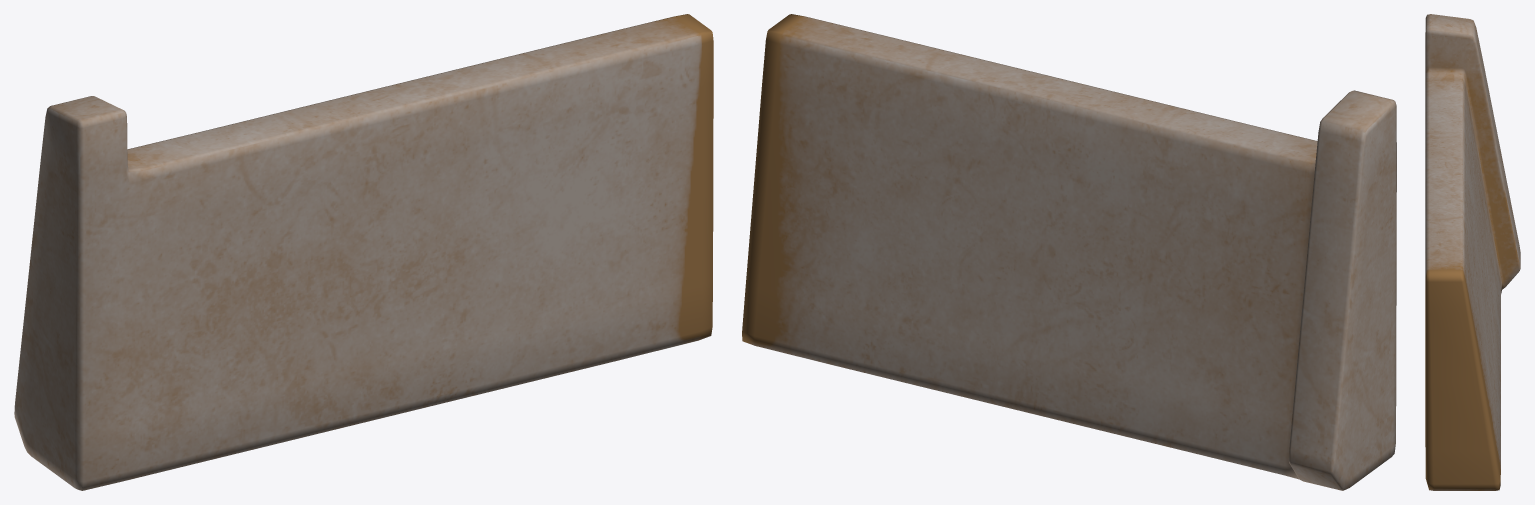
The model's file is wall2.fbx.
3 renders of one model, left to right at view 1: azimuth 30°, elevation 25°; view 2: azimuth 150°, elevation 25°; view 3: azimuth 270°, elevation 25°, orthographic. The views are drawn at different scales.
Parts seen in each view (by area): view 1: wall2; view 2: wall2; view 3: wall2.
Boxes of the visible parts, x1=… form: wall2: x1=14, y1=14, x2=713, y2=490; wall2: x1=742, y1=14, x2=1396, y2=490; wall2: x1=1425, y1=14, x2=1520, y2=490.
Size of the model in its own units: 2558 by 1433 by 474.
1 material, 1 textured.
